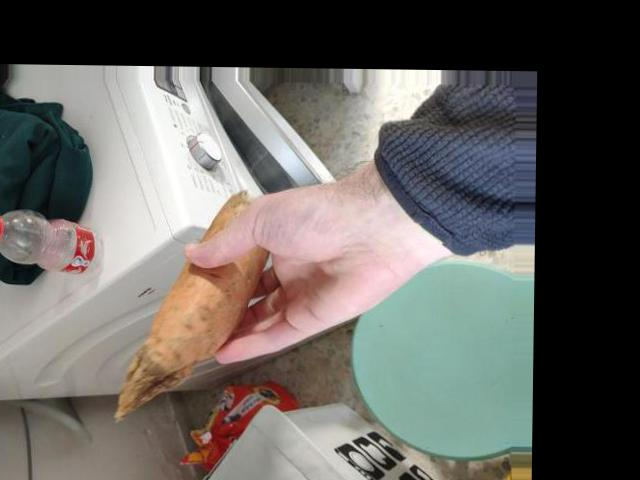sweet_potato: (150, 227, 262, 366)
